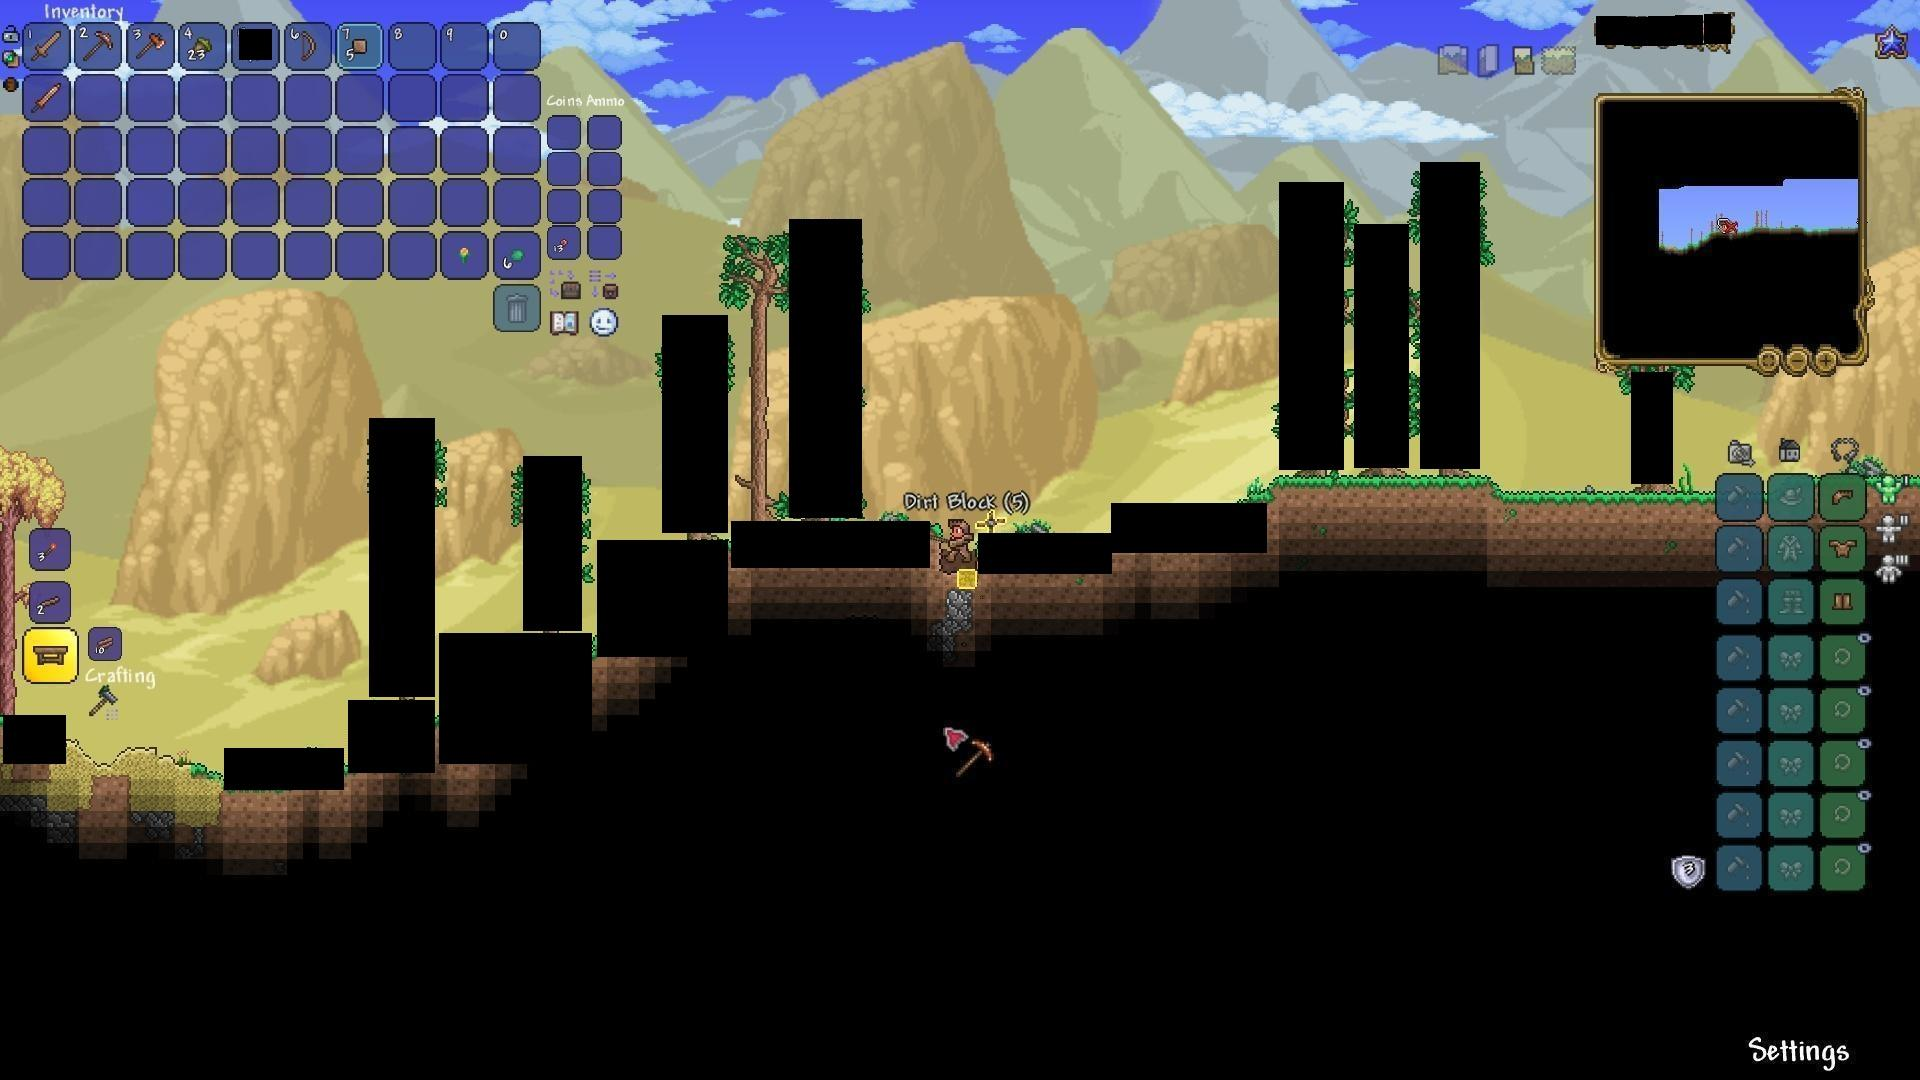breastplate: (1830, 535, 1859, 558)
dirt: (1274, 473, 1499, 522), (1499, 487, 1716, 531)
helmet: (1828, 483, 1859, 510)
legs: (1832, 587, 1855, 616)
tree: (728, 223, 783, 514), (0, 452, 30, 715)
wood: (88, 629, 120, 659)
workbench: (33, 646, 65, 669)
